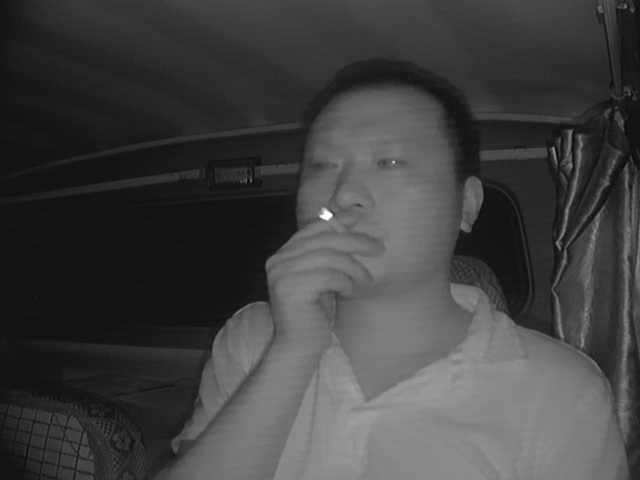hand: (287, 211, 377, 308)
